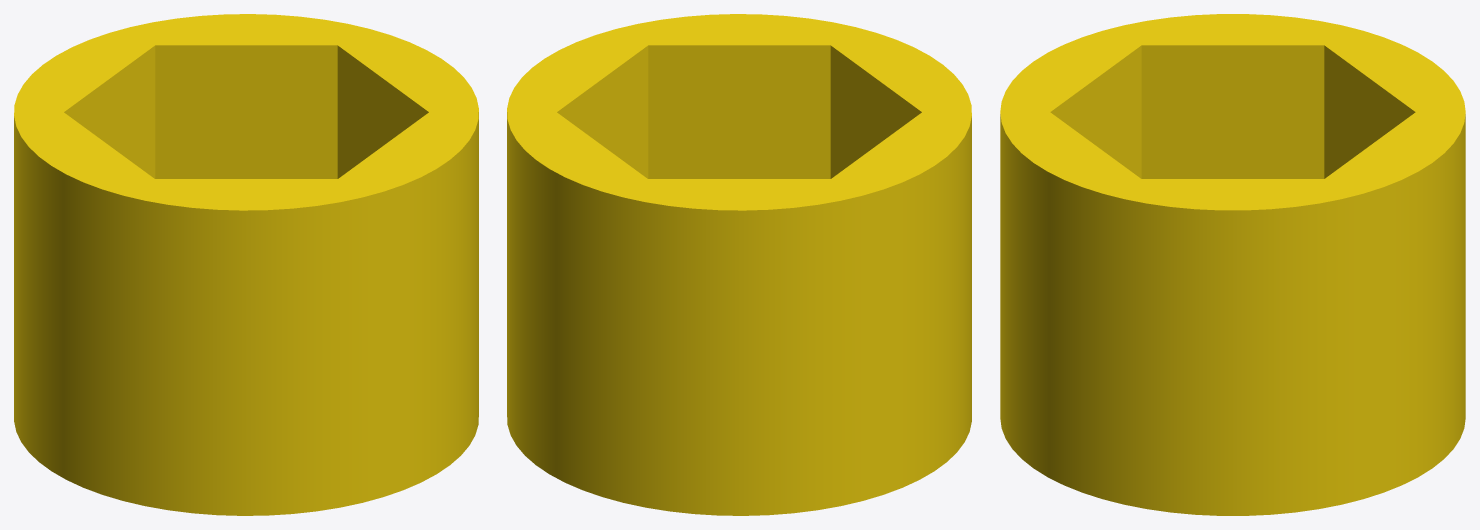
File: A26_S114_hexSpacer.gltf
3 views of the same model, side by side, from view 1: azimuth 30°, elevation 25°; view 2: azimuth 150°, elevation 25°; view 3: azimuth 270°, elevation 25° (orthographic).
Parts seen in each view (by area): view 1: mesh21144, mesh21146, mesh21148, mesh21147, mesh21149; view 2: mesh21144, mesh21146, mesh21152, mesh21147, mesh21151; view 3: mesh21144, mesh21146, mesh21150, mesh21149, mesh21151.
Part boxes in pixels (x1=…): mesh21144: x1=14, y1=112, x2=478, y2=515; mesh21146: x1=14, y1=14, x2=478, y2=210; mesh21148: x1=155, y1=45, x2=337, y2=178; mesh21147: x1=337, y1=45, x2=428, y2=178; mesh21149: x1=64, y1=45, x2=155, y2=178; mesh21144: x1=507, y1=112, x2=971, y2=515; mesh21146: x1=507, y1=14, x2=971, y2=210; mesh21152: x1=648, y1=45, x2=830, y2=178; mesh21147: x1=557, y1=45, x2=648, y2=178; mesh21151: x1=830, y1=45, x2=921, y2=178; mesh21144: x1=1000, y1=114, x2=1465, y2=515; mesh21146: x1=1000, y1=14, x2=1465, y2=210; mesh21150: x1=1141, y1=45, x2=1324, y2=178; mesh21149: x1=1324, y1=45, x2=1415, y2=178; mesh21151: x1=1050, y1=45, x2=1141, y2=178.
Size of the model in its own units: 0.019 by 0.0138 by 0.0191.
